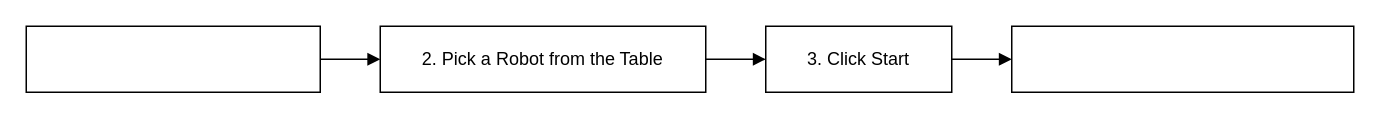
The diagram is 1380 pixels wide and 119 high, and some of its shapes have lost their labels. The shapes that lost their labels are listed below. From the top down, each one's centre as x and y in pixels, then its label:
At [172,58]: "1. Log in at msd.nglobal.jp".
At [1182,58]: "4. Navigation or Mapping Opens".
